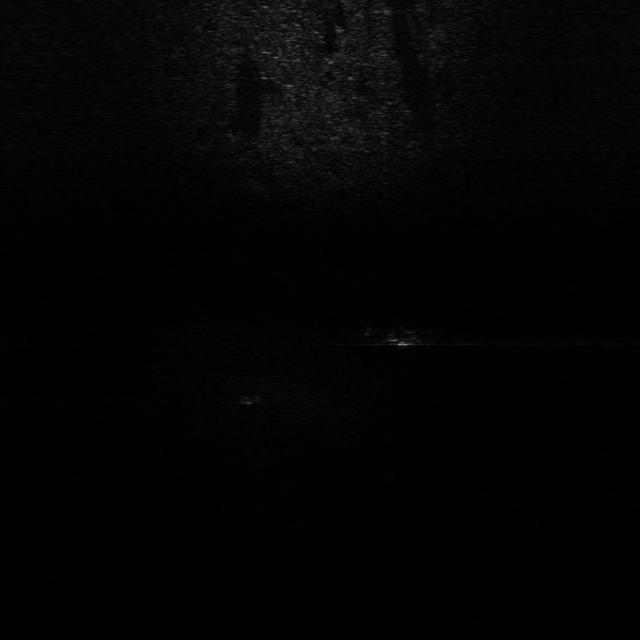ball: (230, 382, 266, 406)
human body: (348, 313, 453, 353)
